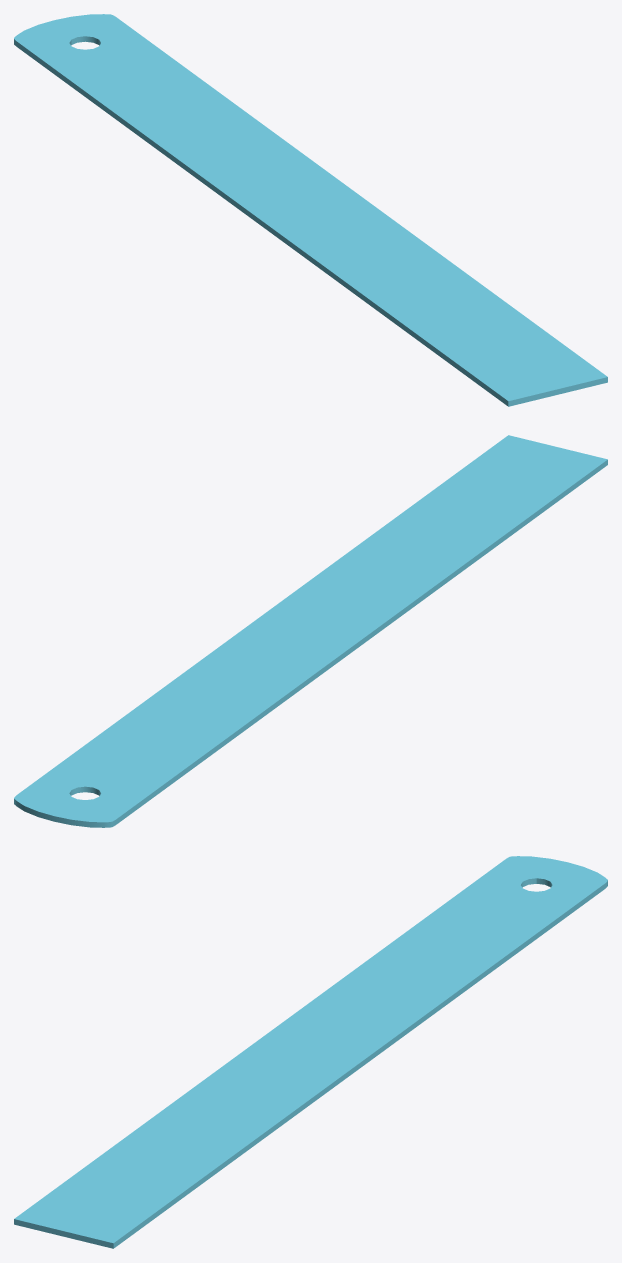
3 views of the same model, one above another, from view 1: azimuth 30°, elevation 25°; view 2: azimuth 150°, elevation 25°; view 3: azimuth 330°, elevation 25° (orthographic).
Visible parts, largest first — view 1: ruler_metal; view 2: ruler_metal; view 3: ruler_metal.
Part boxes in pixels (box(x1,y1,x2,y2)): ruler_metal: box(14, 14, 607, 406); ruler_metal: box(14, 435, 607, 827); ruler_metal: box(14, 856, 607, 1248).
Size of the model in its own units: 208 by 11.09 by 1824.
